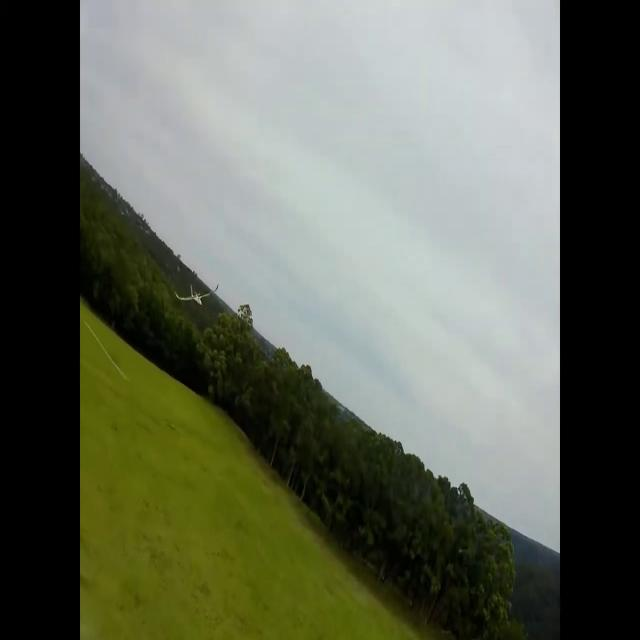iha: (174, 284, 218, 304)
